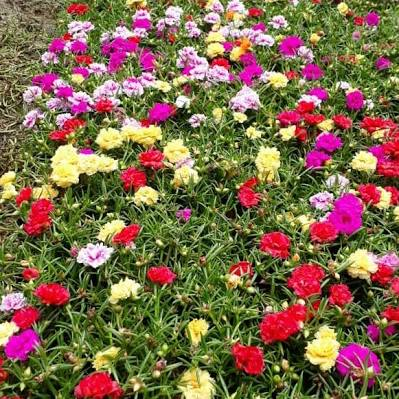rose: (0, 6, 395, 398)
